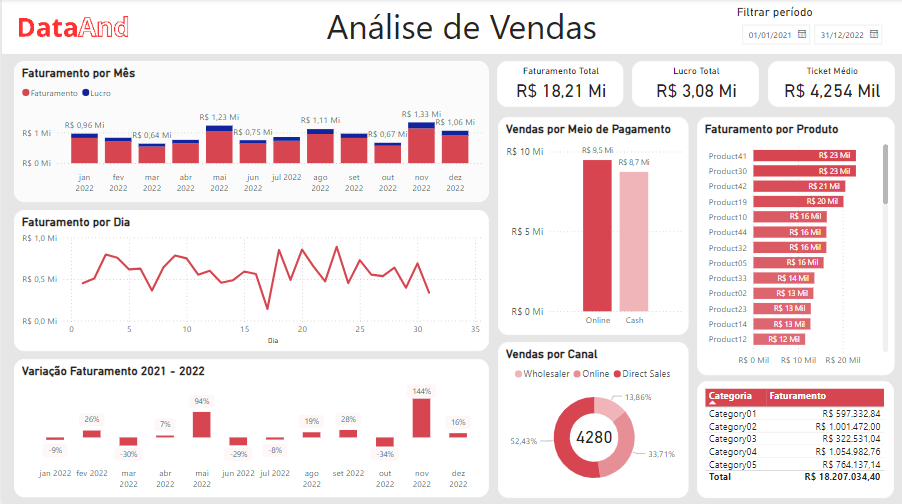

The dashboard page shown, as its layout file describes it:
{"tool":"powerbi","page":{"name":"Visão Geral","canvas":[1280,720],"ordinal":0},"visuals":[{"type":"donutChart","title":"Vendas por Canal","fields":{"Category":["InputData.SALE TYPE"],"Y":["Medidas.Faturamento"]},"box":[702.7,486.2,270.5,221],"z":0},{"type":"shape","box":[0,0,1280,77.8],"z":1000},{"type":"tableEx","fields":{"Values":["MasterData.CATEGORY","Medidas.Faturamento"]},"box":[984.8,541,279.3,166.2],"z":2000},{"type":"clusteredBarChart","title":"Faturamento por Produto","fields":{"Category":["MasterData.PRODUCT"],"Y":["Medidas.Faturamento"]},"box":[984.7,167.1,280.2,366],"z":3000},{"type":"columnChart","title":"Vendas por Meio de Pagamento","fields":{"Category":["InputData.PAYMENT MODE"],"Y":["Medidas.Faturamento"]},"box":[702.7,167.1,270.5,309.4],"z":4000},{"type":"columnChart","title":"Faturamento por Mês","fields":{"Y":["Medidas.Faturamento","Medidas.Lucro"],"Category":["Calendario.AnoMês"]},"box":[17.6,88.4,672.7,199.8],"z":5000},{"type":"card","title":"Faturamento Total","fields":{"Values":["Medidas.Faturamento"]},"box":[700.9,88.4,179.4,65.4],"z":6000},{"type":"card","title":"Lucro Total","fields":{"Values":["Medidas.Lucro"]},"box":[893.6,88.4,180.3,65.4],"z":7000},{"type":"card","fields":{"Values":["Medidas.Qtde Vendas"]},"box":[797.9,589.6,82.3,60.5],"z":8000},{"type":"card","title":"Ticket Médio","fields":{"Values":["Medidas.Ticket Médio"]},"box":[1085.4,88.4,180.3,65.4],"z":9000},{"type":"slicer","title":"Filtrar período","fields":{"Values":["Calendario.Date"]},"box":[1030.7,1.8,240.4,74.3],"z":10000},{"type":"lineChart","fields":{"Y":["Medidas.Faturamento"],"Category":["Calendario.Date.Variation.Hierarquia de datas.Dia"]},"box":[17.6,299.7,672.7,199.8],"z":11000},{"type":"columnChart","title":"Variação Faturamento 2021 - 2022","fields":{"Category":["Calendario.AnoMês"],"Y":["Medidas.% VarAno"]},"box":[17.6,510.9,672.7,196.2],"z":13000},{"type":"textbox","box":[455.2,0,469.4,74.3],"z":14000},{"type":"image","box":[0,0,202.7,78],"z":14001}]}

Visuals, with their boxes in screenshot pixels (x1, y1, x2, y2), scaled from the page's 1280x720 canvas onto the 902x504 screenshot:
"Vendas por Canal" donutChart: region(495, 340, 686, 495)
shape: region(0, 0, 901, 54)
tableEx - MasterData.CATEGORY x Medidas.Faturamento: region(694, 379, 891, 495)
"Faturamento por Produto" clusteredBarChart: region(694, 117, 891, 373)
"Vendas por Meio de Pagamento" columnChart: region(495, 117, 686, 334)
"Faturamento por Mês" columnChart: region(12, 62, 486, 202)
"Faturamento Total" card: region(494, 62, 620, 108)
"Lucro Total" card: region(630, 62, 757, 108)
card - Medidas.Qtde Vendas: region(562, 413, 620, 455)
"Ticket Médio" card: region(765, 62, 892, 108)
"Filtrar período" slicer: region(726, 1, 896, 53)
lineChart - Medidas.Faturamento x Calendario.Date.Variation.Hierarquia de datas.Dia: region(12, 210, 486, 350)
"Variação Faturamento 2021 - 2022" columnChart: region(12, 358, 486, 495)
textbox: region(321, 0, 652, 52)
image: region(0, 0, 143, 55)
